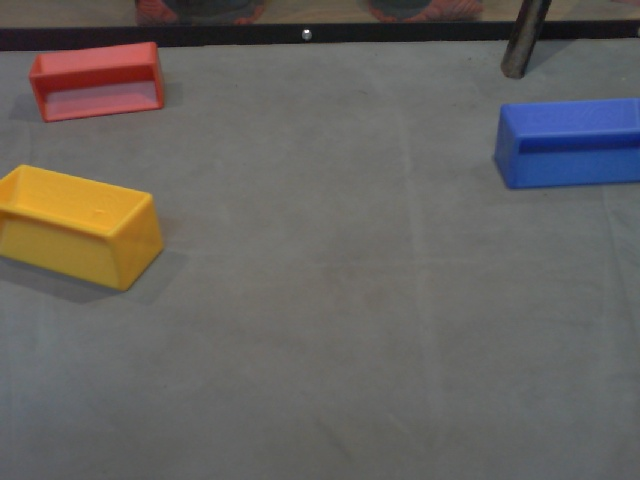BlueSample: (490, 94, 640, 192)
RedSample: (27, 39, 169, 128)
YellowSample: (1, 161, 168, 297)
